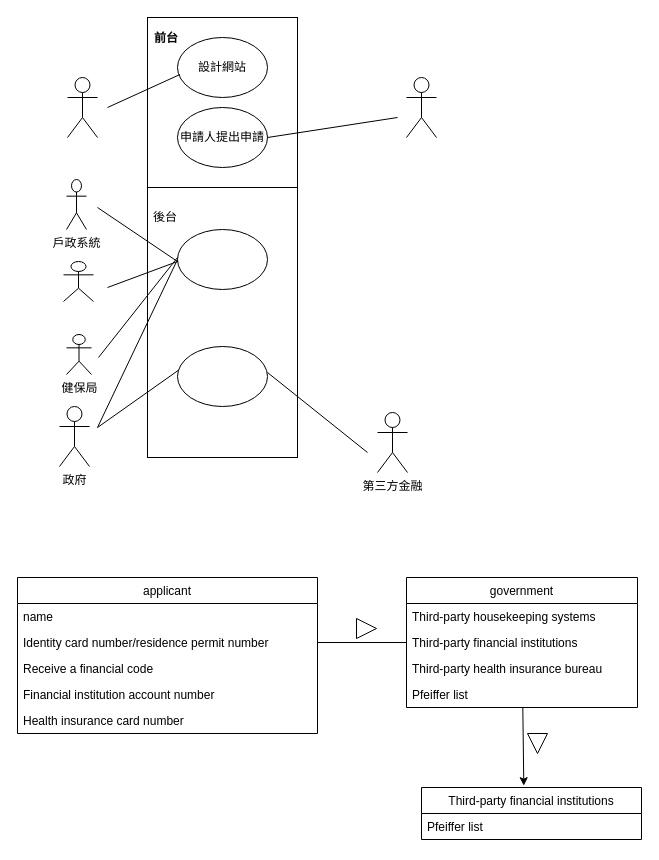
Some shapes in this 659 by 860 pixel diagram are drawn without their labels. Each missing label, with the centre of its shape:
政府審核: (222,259)
普發名單出來 發放6000: (222,376)
申請人: (421,107)
網頁設計師: (82,107)
金融機構: (78,281)
